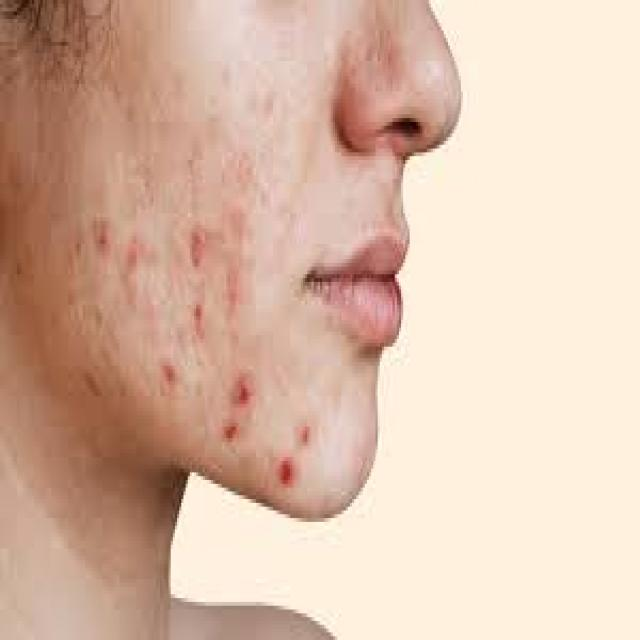Acne: (178, 206, 314, 494)
